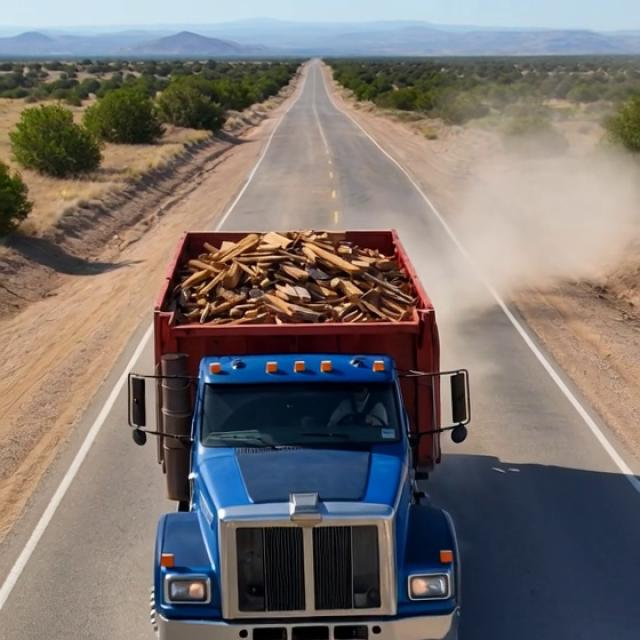Box: (144, 227, 440, 326)
Truck: (118, 209, 496, 640)
